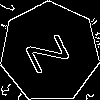Z: (25, 27, 79, 76)
